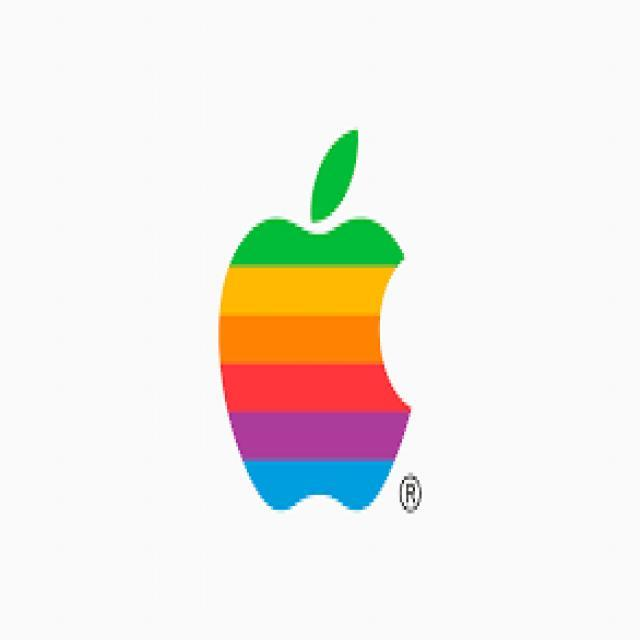apple: (218, 115, 425, 516)
